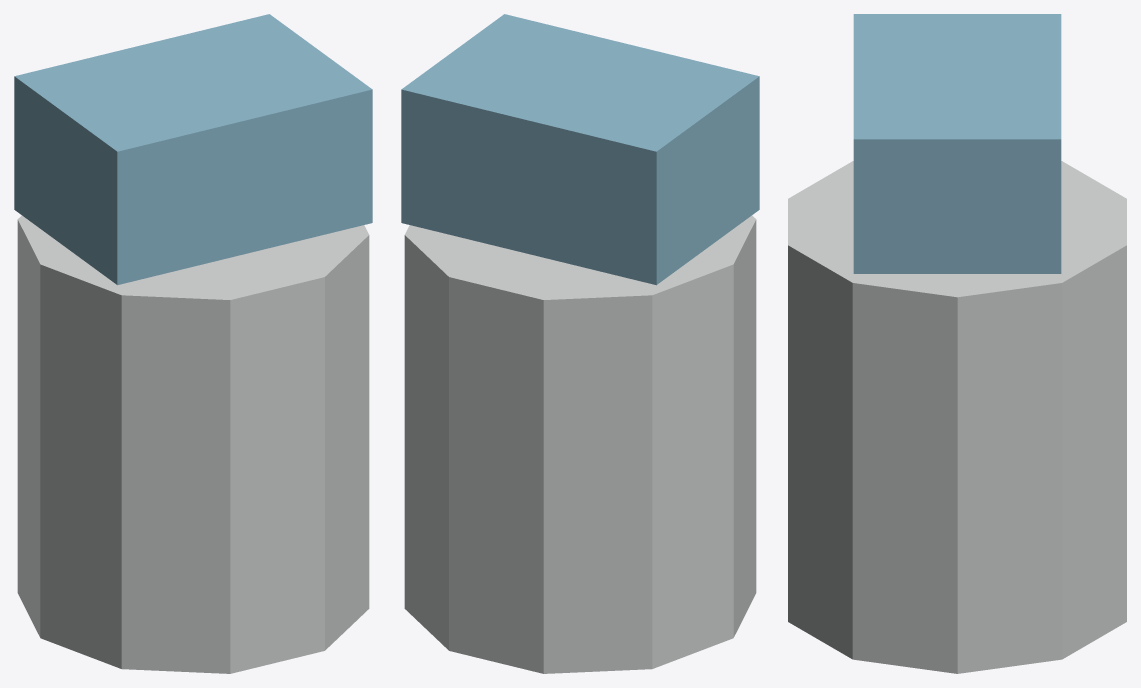
Rendered from compressor.glb.
3 views of the same model, side by side, from view 1: azimuth 30°, elevation 25°; view 2: azimuth 150°, elevation 25°; view 3: azimuth 270°, elevation 25° (orthographic).
Bounding box in the file's own units: 0.6 × 0.97 × 0.5706.
